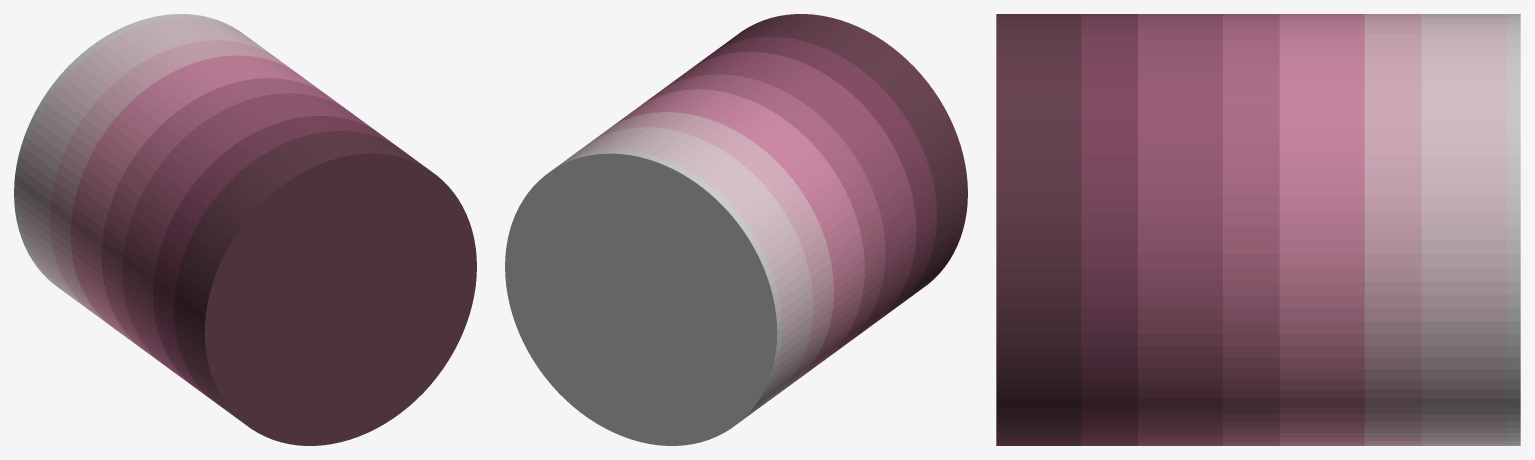
Rendered from cake_6in_layers4.glb.
3 renders of one model, left to right at view 1: azimuth 30°, elevation 25°; view 2: azimuth 150°, elevation 25°; view 3: azimuth 270°, elevation 25°, orthographic. The views are drawn at different scales.
Visible parts, largest first — view 1: geometry_6, geometry_4, geometry_0, geometry_2, geometry_3, geometry_1, geometry_5, geometry_7; view 2: geometry_7, geometry_2, geometry_4, geometry_0, geometry_6, geometry_3, geometry_5, geometry_1; view 3: geometry_0, geometry_2, geometry_6, geometry_4, geometry_1, geometry_3, geometry_5, geometry_7.
Part boxes in pixels (left/top/right/bottom): geometry_6: left=174, top=131, right=476, bottom=445; geometry_4: left=122, top=93, right=376, bottom=385; geometry_0: left=19, top=17, right=274, bottom=309; geometry_2: left=70, top=55, right=324, bottom=346; geometry_3: left=101, top=78, right=345, bottom=362; geometry_1: left=50, top=40, right=294, bottom=324; geometry_5: left=153, top=116, right=397, bottom=400; geometry_7: left=14, top=14, right=242, bottom=286; geometry_7: left=505, top=150, right=782, bottom=445; geometry_2: left=610, top=89, right=864, bottom=380; geometry_4: left=661, top=51, right=916, bottom=343; geometry_0: left=558, top=127, right=813, bottom=419; geometry_6: left=713, top=14, right=967, bottom=305; geometry_3: left=642, top=74, right=885, bottom=359; geometry_5: left=692, top=36, right=936, bottom=320; geometry_1: left=590, top=112, right=833, bottom=396; geometry_0: left=1421, top=14, right=1506, bottom=445; geometry_2: left=1279, top=14, right=1364, bottom=445; geometry_6: left=996, top=14, right=1081, bottom=445; geometry_4: left=1138, top=14, right=1222, bottom=445; geometry_1: left=1364, top=14, right=1421, bottom=445; geometry_3: left=1223, top=14, right=1279, bottom=445; geometry_5: left=1081, top=14, right=1137, bottom=445; geometry_7: left=1506, top=14, right=1520, bottom=445.
Bounding box in the file's own units: 0.1524 × 0.1524 × 0.185.
